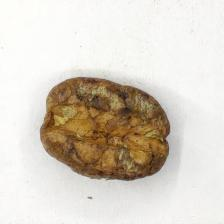NG: (45, 79, 161, 177)
